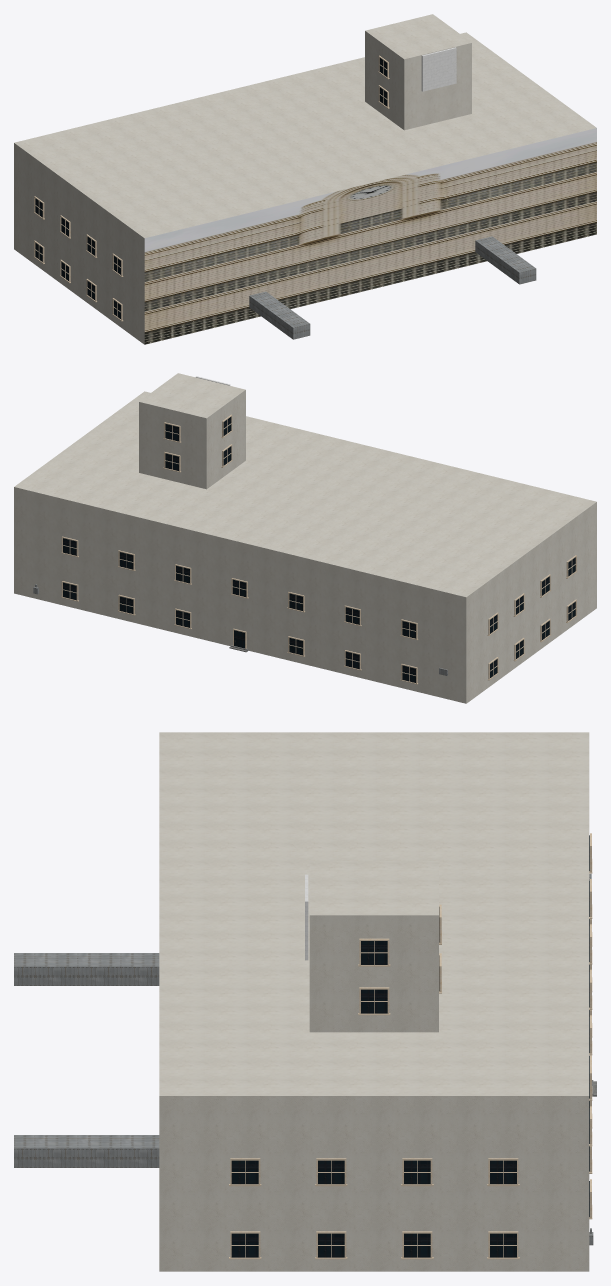
Rendered from ferry-terminal_lod0.gltf.
3 renders of one model, top to bottom at view 1: azimuth 30°, elevation 25°; view 2: azimuth 150°, elevation 25°; view 3: azimuth 270°, elevation 25°, orthographic. The views are drawn at different scales.
Visible parts, largest first — view 1: ferry-terminal_tier0, ferry-terminal_front, ferry-terminal_tier1, ferry-terminal__gangway_a, ferry-terminal__gangway_b, ferry-terminal_fen_04-limestone_0, ferry-terminal__clock, ferry-terminal_fen_07-glass-curtain-blue_1_t; view 2: ferry-terminal_tier0, ferry-terminal_tier1, ferry-terminal_fen_07-glass-curtain-blue_1_t, ferry-terminal_fen_04-limestone_0; view 3: ferry-terminal_tier0, ferry-terminal_tier1, ferry-terminal_fen_07-glass-curtain-blue_1_t, ferry-terminal__gangway_a, ferry-terminal__gangway_b, ferry-terminal_fen_04-limestone_0.
Boxes of the visible parts, left/top/right/bottom form: ferry-terminal_tier0: left=14, top=32, right=596, bottom=344; ferry-terminal_front: left=144, top=128, right=596, bottom=344; ferry-terminal_tier1: left=365, top=14, right=471, bottom=130; ferry-terminal__gangway_a: left=249, top=291, right=310, bottom=339; ferry-terminal__gangway_b: left=475, top=236, right=536, bottom=284; ferry-terminal_fen_04-limestone_0: left=33, top=55, right=389, bottom=321; ferry-terminal__clock: left=421, top=47, right=456, bottom=91; ferry-terminal_fen_07-glass-curtain-blue_1_t: left=35, top=58, right=387, bottom=318; ferry-terminal_tier0: left=14, top=391, right=596, bottom=703; ferry-terminal_tier1: left=139, top=373, right=245, bottom=489; ferry-terminal_fen_07-glass-curtain-blue_1_t: left=63, top=417, right=575, bottom=682; ferry-terminal_fen_04-limestone_0: left=61, top=414, right=577, bottom=684; ferry-terminal_tier0: left=159, top=732, right=589, bottom=1271; ferry-terminal_tier1: left=309, top=861, right=438, bottom=1032; ferry-terminal_fen_07-glass-curtain-blue_1_t: left=231, top=835, right=589, bottom=1257; ferry-terminal__gangway_a: left=14, top=953, right=159, bottom=985; ferry-terminal__gangway_b: left=14, top=1135, right=159, bottom=1167; ferry-terminal_fen_04-limestone_0: left=229, top=833, right=592, bottom=1259.
Size of the model in its own units: 80.55 by 30.02 by 54.2.
